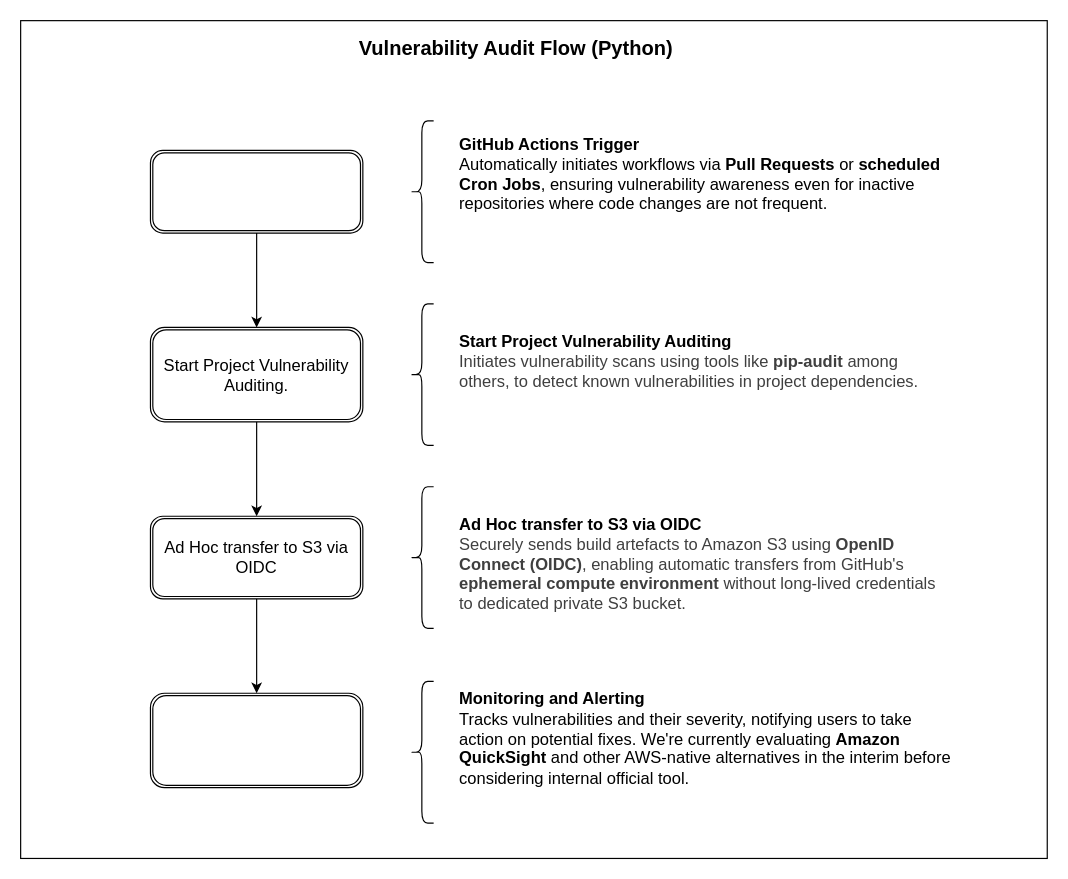
The diagram is 1068 pixels wide and 879 high, and some of its shapes have lost their labels. Each missing label, with the centre of its shape:
Monitoring and Allerting: [256,740]
Trigger Github Actions: [256,191]
